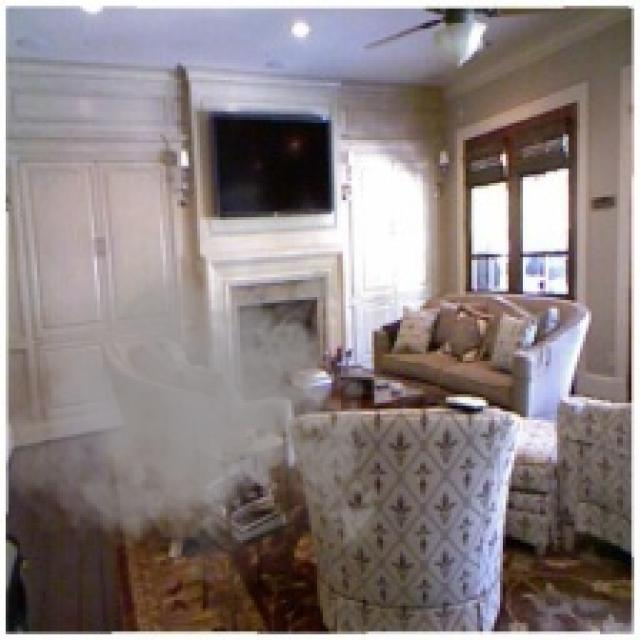smoke: (0, 206, 389, 603)
